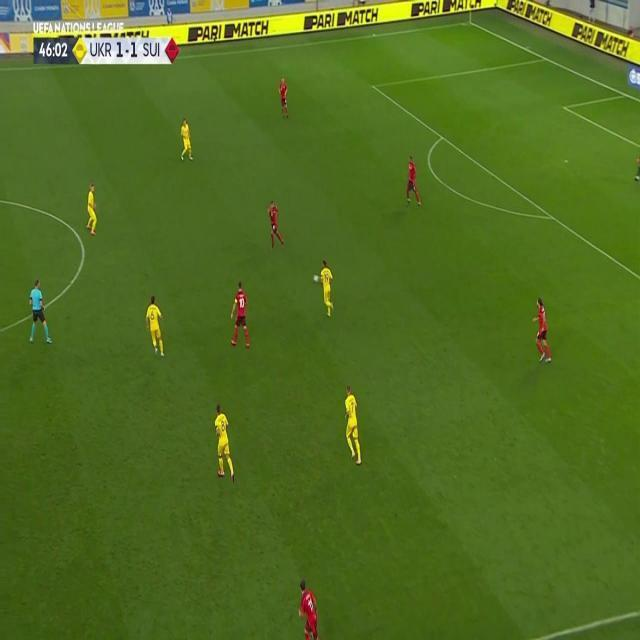ball: (313, 274, 320, 286)
player: (212, 404, 236, 482), (294, 576, 321, 638), (342, 384, 362, 463), (229, 281, 252, 348), (532, 296, 553, 364), (145, 294, 166, 358), (405, 155, 423, 208), (266, 199, 284, 251), (320, 259, 335, 316), (85, 182, 100, 236), (179, 117, 194, 162), (278, 76, 290, 120)
referee: (26, 278, 52, 344)
